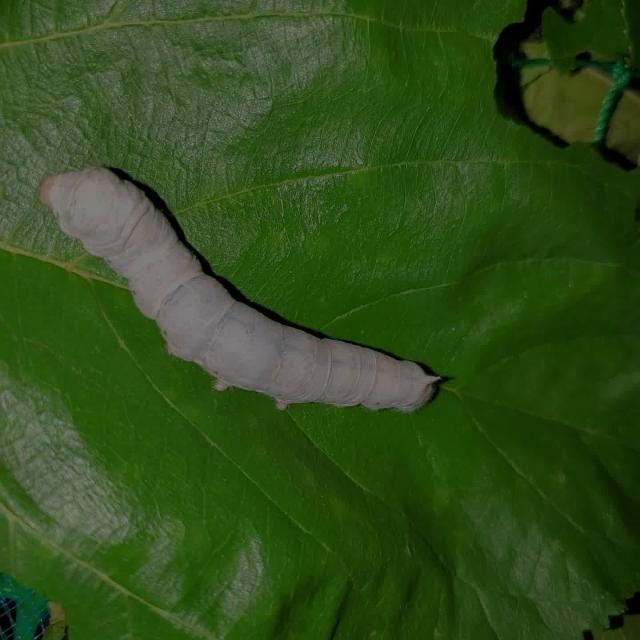Healthy: (27, 125, 456, 459)
